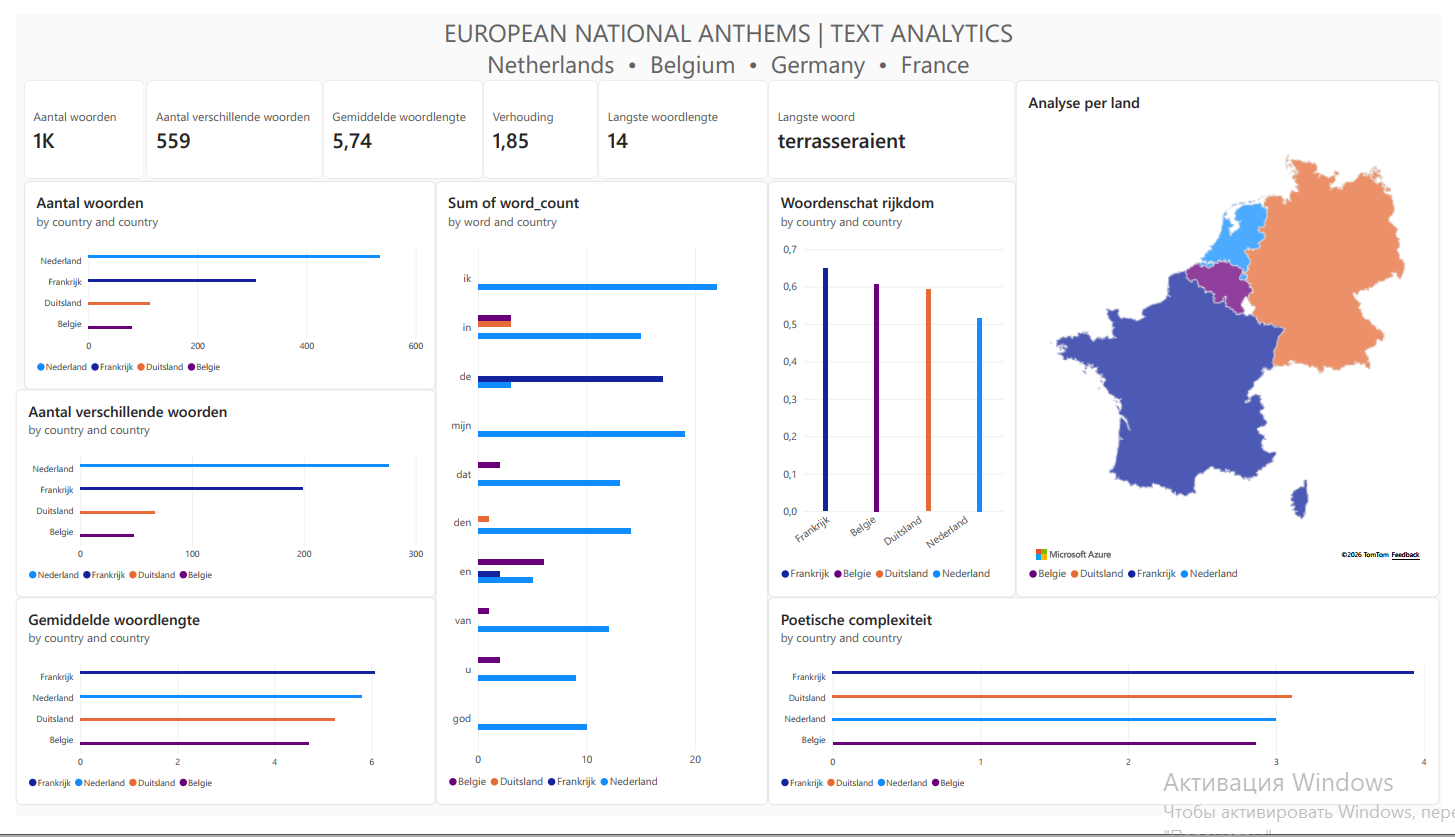

Layout of this report page (visuals, bound fields, positions):
{"tool":"powerbi","page":{"name":"Anthem Analytics","canvas":[1920,1080],"ordinal":0},"visuals":[{"type":"cardVisual","fields":{"Data":["All_words.Aantal woorden"]},"box":[10.7,88.1,162.9,133.5],"z":0},{"type":"cardVisual","fields":{"Data":["All_words.Aantal verschillende woorden"]},"box":[176.2,88.1,237.6,133.5],"z":1},{"type":"cardVisual","fields":{"Data":["All_words.Gemiddelde woordlengte"]},"box":[413.8,88.1,216.2,133.5],"z":2},{"type":"cardVisual","fields":{"Data":["All_words.Verhouding"]},"box":[630,88.1,154.8,133.5],"z":3},{"type":"clusteredBarChart","fields":{"Category":["All_words.country"],"Series":["All_words.country"],"Y":["All_words.Aantal woorden"]},"box":[10.7,224.3,555.3,280.3],"z":4},{"type":"clusteredBarChart","fields":{"Category":["All_words.country"],"Series":["All_words.country"],"Y":["All_words.Aantal verschillende woorden"]},"box":[0,504.6,566,280.3],"z":5},{"type":"clusteredBarChart","fields":{"Category":["All_words.country"],"Series":["All_words.country"],"Y":["All_words.Gemiddelde woordlengte"]},"box":[0,784.9,566,280.3],"z":6},{"type":"azureMap","title":"Analyse per land","fields":{"Category":["All_words.CountryCode"],"Series":["All_words.country"]},"box":[1348.2,88.1,571.3,696.8],"z":8},{"type":"cardVisual","fields":{"Data":["All_words.Langste woordlengte"]},"box":[784.9,88.1,229.6,133.5],"z":9},{"type":"clusteredBarChart","fields":{"Category":["All_words.word"],"Series":["All_words.country"],"Y":["Sum(All_words.word_count)"]},"box":[566,224.3,448.5,840.9],"z":10},{"type":"cardVisual","fields":{"Data":["All_words.Langste woord"]},"box":[1014.5,88.1,333.7,133.5],"z":11},{"type":"clusteredColumnChart","fields":{"Category":["All_words.country"],"Series":["All_words.country"],"Y":["All_words.Woordenschat rijkdom"]},"box":[1014.5,224.3,333.7,560.6],"z":12},{"type":"clusteredBarChart","fields":{"Category":["All_words.country"],"Series":["All_words.country"],"Y":["All_words.Poetische complexiteit"]},"box":[1014.5,784.9,905,280.3],"z":13},{"type":"textbox","box":[93.4,0,1735.3,88.1],"z":14}]}

Visuals, with their boxes on the page's 1920x1080 design canvas (x1, y1, x2, y2). These are canvas units, not pixel positions in the 1455x837 screenshot, which may show the page scaled, cropped or inside an application window:
cardVisual - All_words.Aantal woorden: box(11, 88, 174, 222)
cardVisual - All_words.Aantal verschillende woorden: box(176, 88, 414, 222)
cardVisual - All_words.Gemiddelde woordlengte: box(414, 88, 630, 222)
cardVisual - All_words.Verhouding: box(630, 88, 785, 222)
clusteredBarChart - All_words.country x All_words.country: box(11, 224, 566, 505)
clusteredBarChart - All_words.country x All_words.country: box(0, 505, 566, 785)
clusteredBarChart - All_words.country x All_words.country: box(0, 785, 566, 1065)
"Analyse per land" azureMap: box(1348, 88, 1920, 785)
cardVisual - All_words.Langste woordlengte: box(785, 88, 1014, 222)
clusteredBarChart - All_words.word x All_words.country: box(566, 224, 1014, 1065)
cardVisual - All_words.Langste woord: box(1014, 88, 1348, 222)
clusteredColumnChart - All_words.country x All_words.country: box(1014, 224, 1348, 785)
clusteredBarChart - All_words.country x All_words.country: box(1014, 785, 1920, 1065)
textbox: box(93, 0, 1829, 88)
